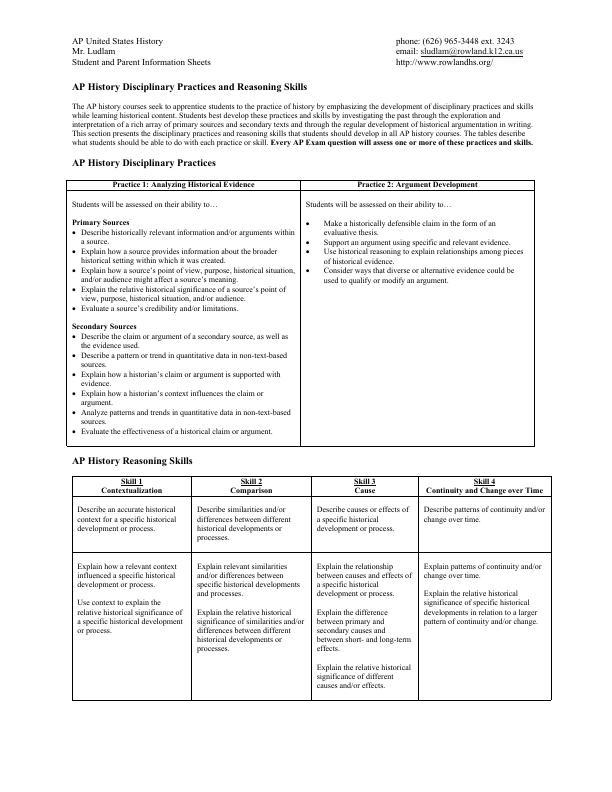table: (64, 176, 540, 451), (70, 473, 558, 707)
text: (71, 76, 537, 150), (394, 34, 531, 75), (67, 35, 214, 68), (73, 154, 217, 168), (71, 454, 196, 466)
